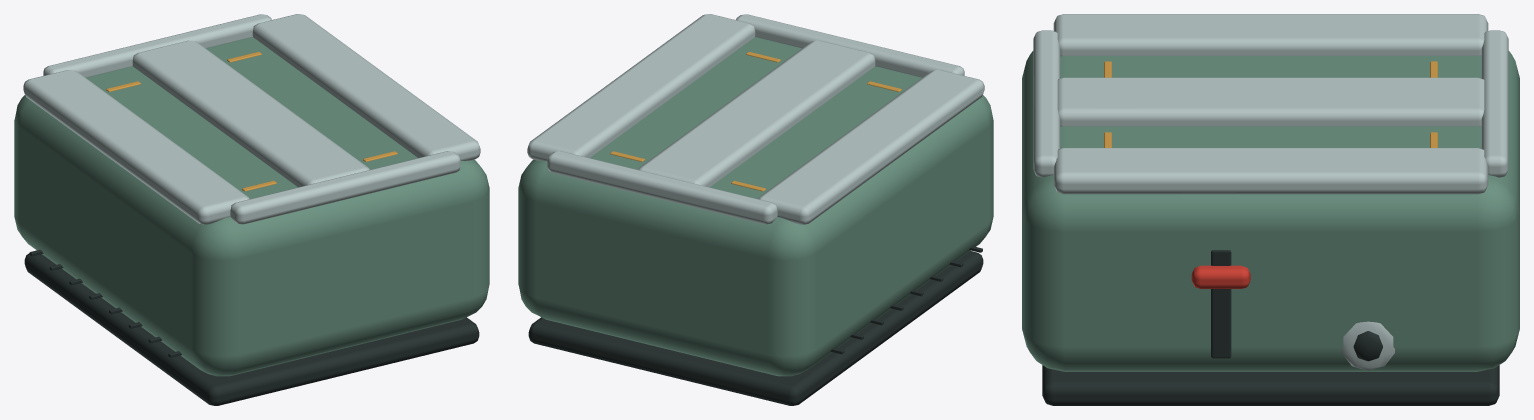
The model's file is working-toaster-light.glb.
The picture shows the model from 3 angles, left to right: view 1: azimuth 30°, elevation 25°; view 2: azimuth 150°, elevation 25°; view 3: azimuth 270°, elevation 25°; orthographic projection. The views are drawn at different scales.
Parts seen in each view (by area): view 1: sage, steel, dark, brass; view 2: sage, steel, dark, brass; view 3: sage, steel, dark, red, brass.
Part boxes in pixels (x1,y1,x2,y2): sage: [14, 37, 489, 376]; steel: [23, 14, 480, 224]; dark: [24, 249, 479, 405]; brass: [106, 52, 397, 191]; sage: [518, 37, 993, 376]; steel: [527, 14, 984, 224]; dark: [528, 246, 983, 405]; brass: [610, 52, 901, 191]; sage: [1022, 51, 1519, 371]; steel: [1033, 14, 1508, 370]; dark: [1042, 250, 1499, 405]; red: [1191, 265, 1250, 288]; brass: [1104, 61, 1437, 147].
Size of the model in its own units: 1.92 by 1.19 by 2.2.
